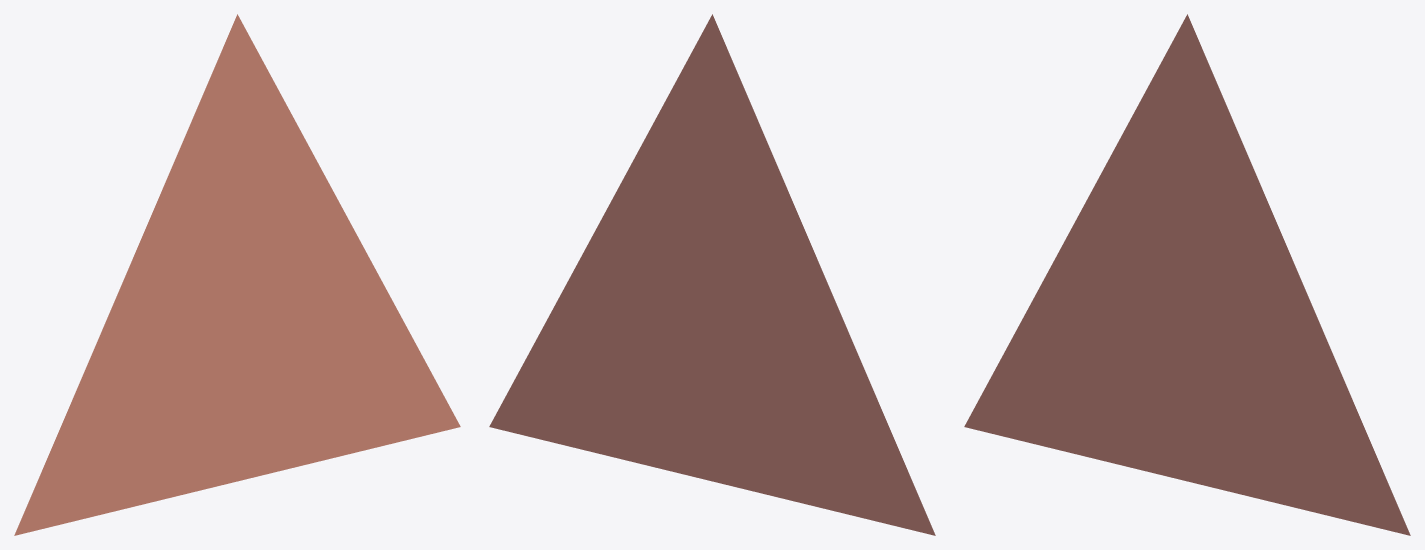
Rendered from textured-triangle.gltf.
The picture shows the model from 3 angles, left to right: view 1: azimuth 30°, elevation 25°; view 2: azimuth 150°, elevation 25°; view 3: azimuth 330°, elevation 25°; orthographic projection.
Bounding box in the file's own units: 2 × 2 × 0.
Materials: 1 (1 with a texture image).
